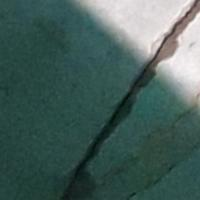crack: (57, 0, 199, 199)
